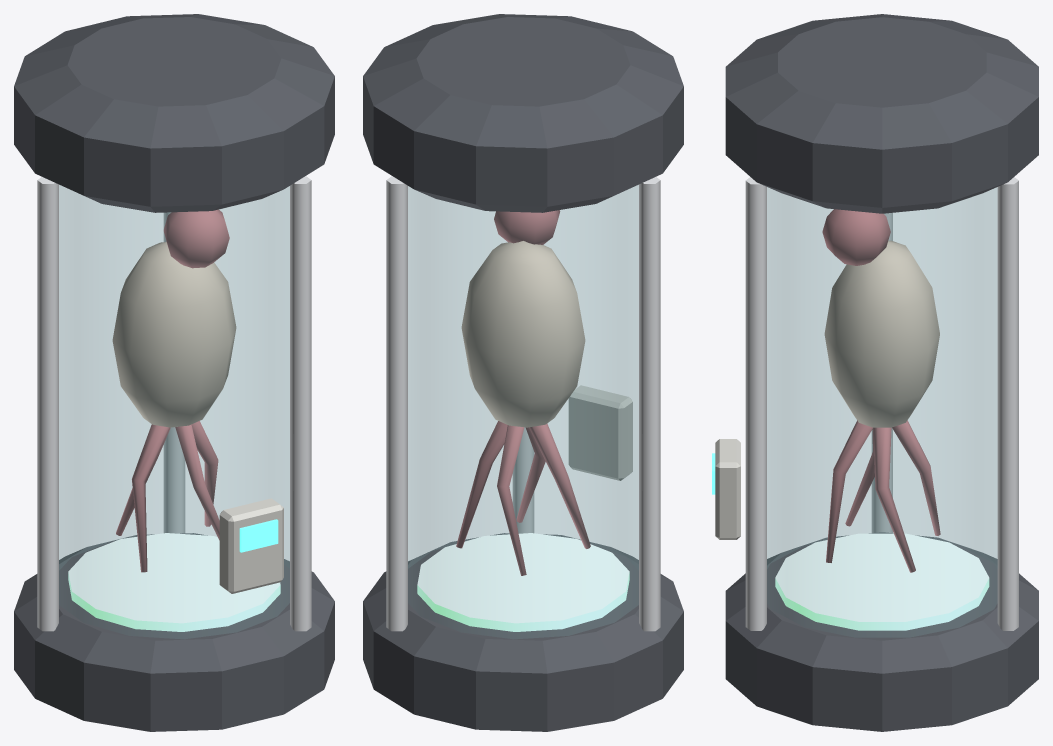
Rendered from cryo_pod.glb.
3 renders of one model, left to right at view 1: azimuth 30°, elevation 25°; view 2: azimuth 150°, elevation 25°; view 3: azimuth 270°, elevation 25°, orthographic.
Visible parts, largest first — view 1: cryo_pod; view 2: cryo_pod; view 3: cryo_pod.
Boxes of the visible parts, x1,y1,x2,y2 form: cryo_pod: [14, 14, 334, 731]; cryo_pod: [363, 14, 683, 731]; cryo_pod: [712, 14, 1038, 731].
Bounding box in the file's own units: 1.5 × 3.1 × 1.53.
